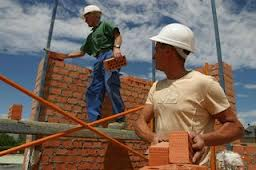casco: (149, 22, 200, 54), (81, 4, 103, 18)
